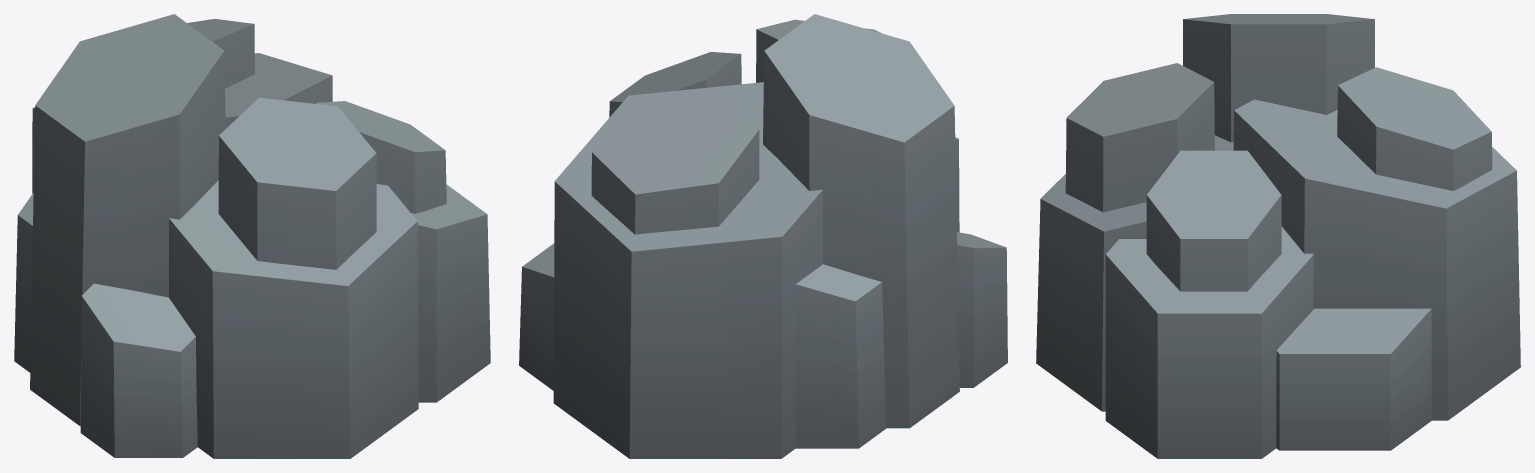
The model's file is mountain_c.glb.
3 renders of one model, left to right at view 1: azimuth 30°, elevation 25°; view 2: azimuth 150°, elevation 25°; view 3: azimuth 270°, elevation 25°, orthographic. The views are drawn at different scales.
Visible parts, largest first — view 1: mountain_C; view 2: mountain_C; view 3: mountain_C.
Boxes of the visible parts, <box> form: mountain_C: <box>14,14,490,458</box>; mountain_C: <box>519,14,1007,458</box>; mountain_C: <box>1036,14,1520,458</box>.
Bounding box in the file's own units: 1.76 × 1.51 × 2.02.
1 material, 1 textured.
